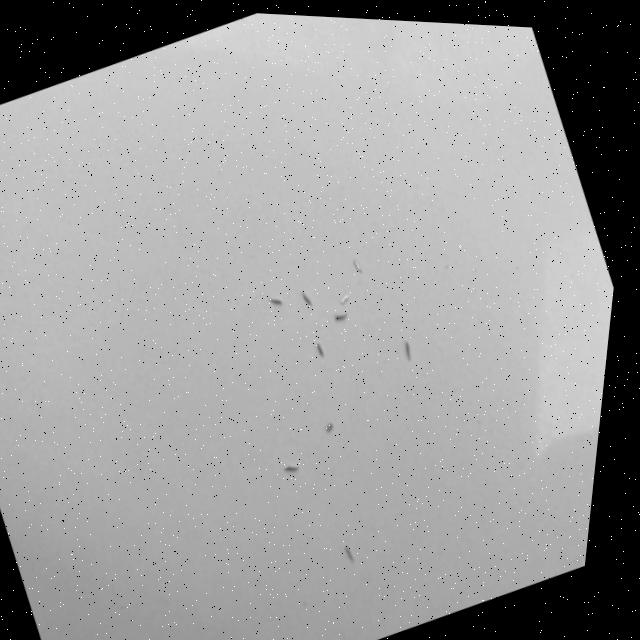Wereng: (390, 331, 425, 370), (336, 539, 363, 571), (277, 456, 306, 483), (308, 336, 331, 367), (263, 290, 289, 317), (327, 305, 354, 329), (293, 287, 317, 314), (331, 286, 355, 310), (343, 254, 366, 277), (317, 420, 338, 441)
